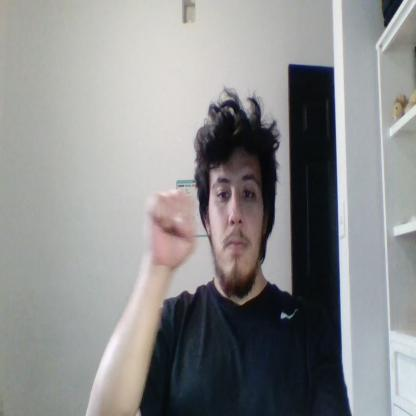S: (145, 190, 197, 268)
